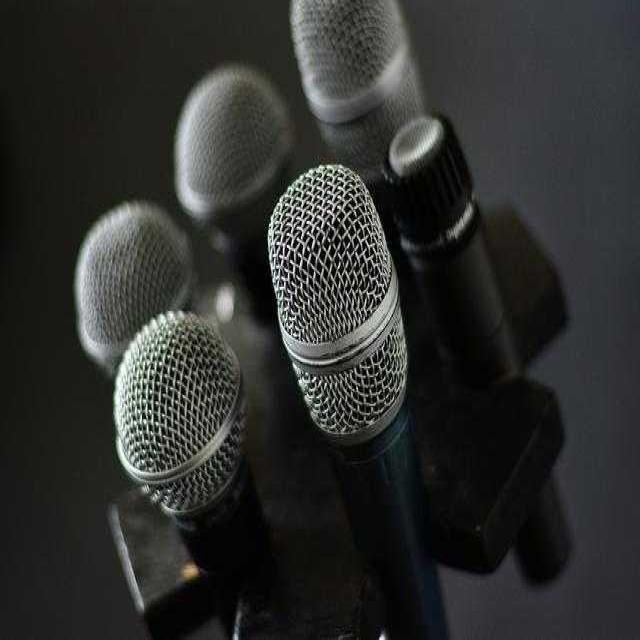microphone: (379, 110, 565, 592), (270, 170, 449, 634), (290, 3, 448, 284), (114, 314, 265, 583), (174, 66, 298, 331), (73, 200, 196, 382)
